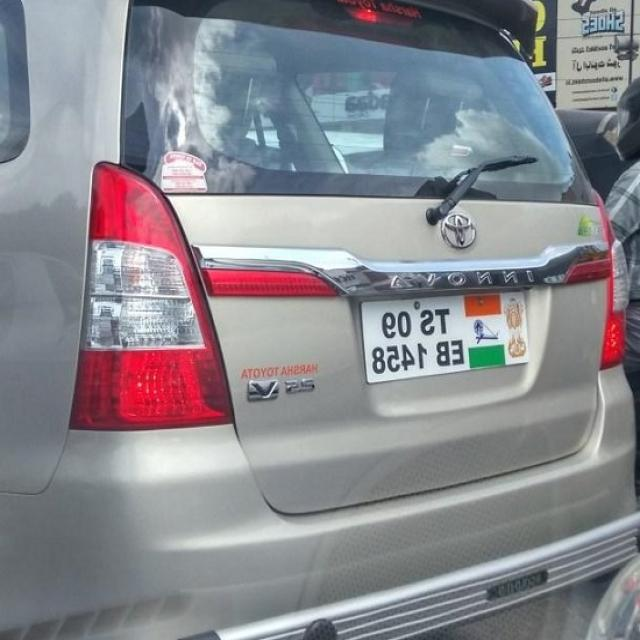number-plate: (343, 266, 533, 405)
